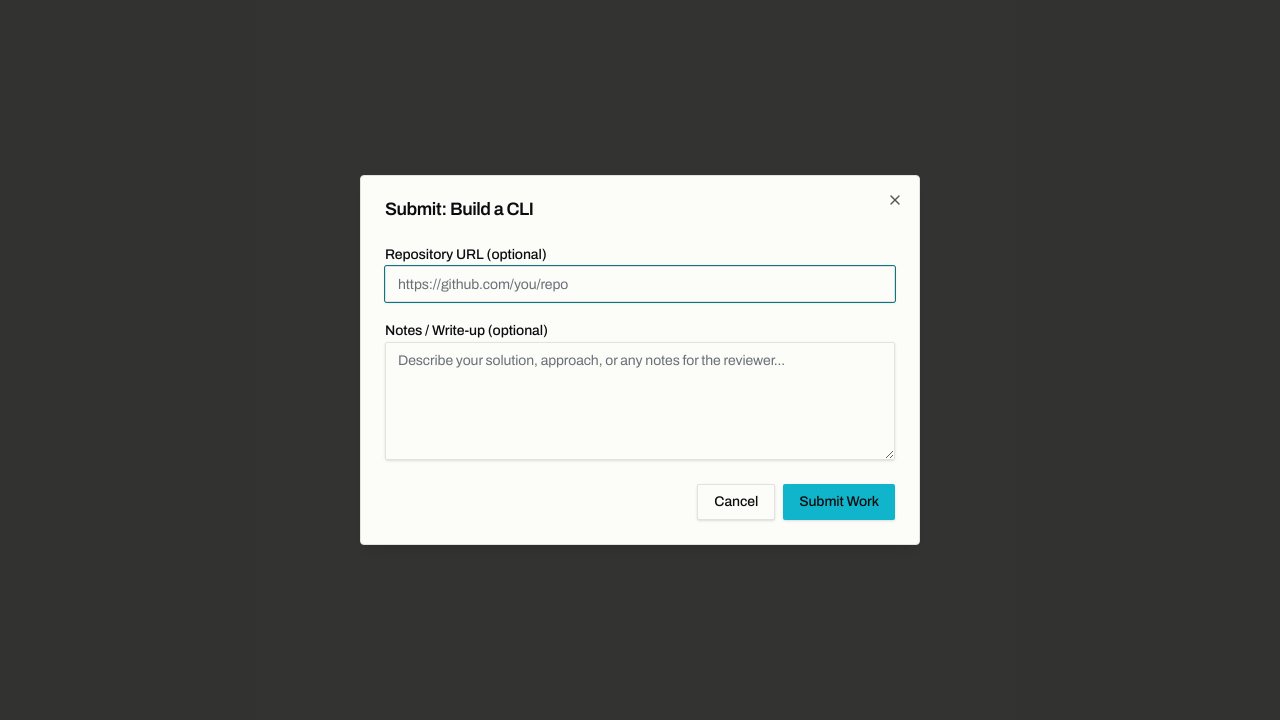
it: TaskSubmitDialog › does not send a link without https://
Type "github.com/x/y" into the field labelled "Repository URL (optional)". click: (640, 284)
box: [385,266,895,302]
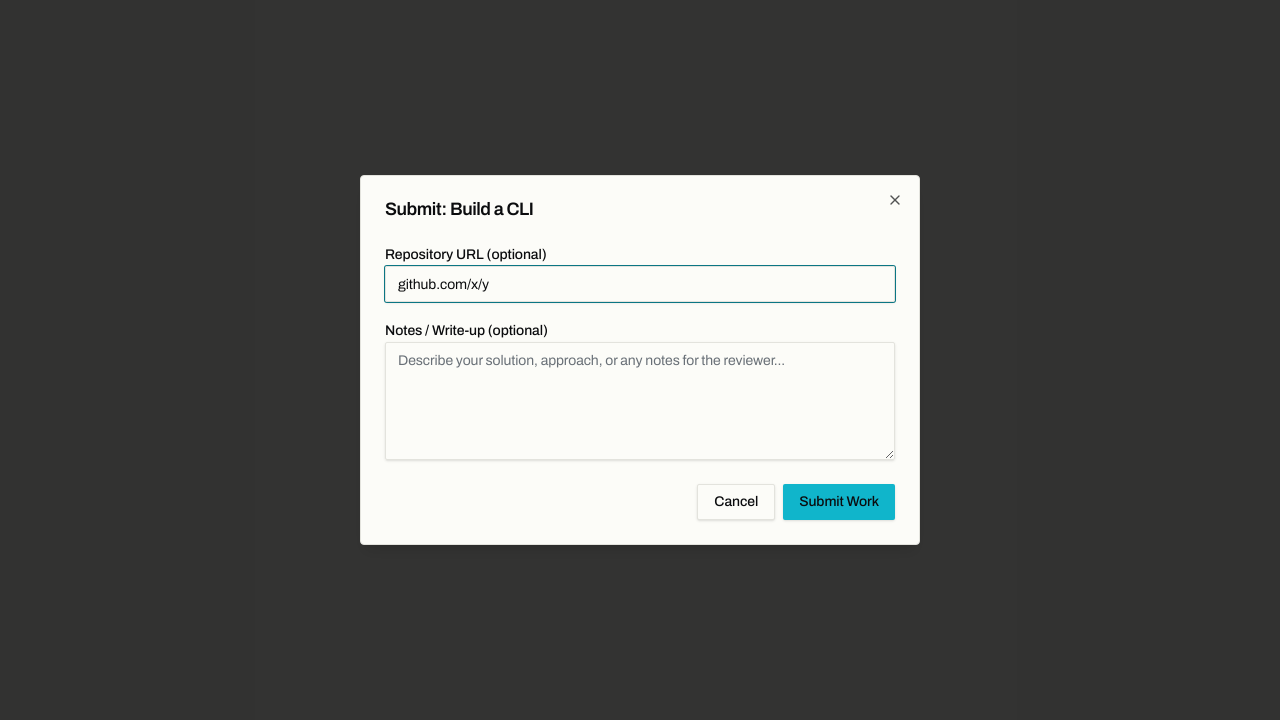
Click the button "Submit Work". click: (839, 502)
box: [783,484,895,520]
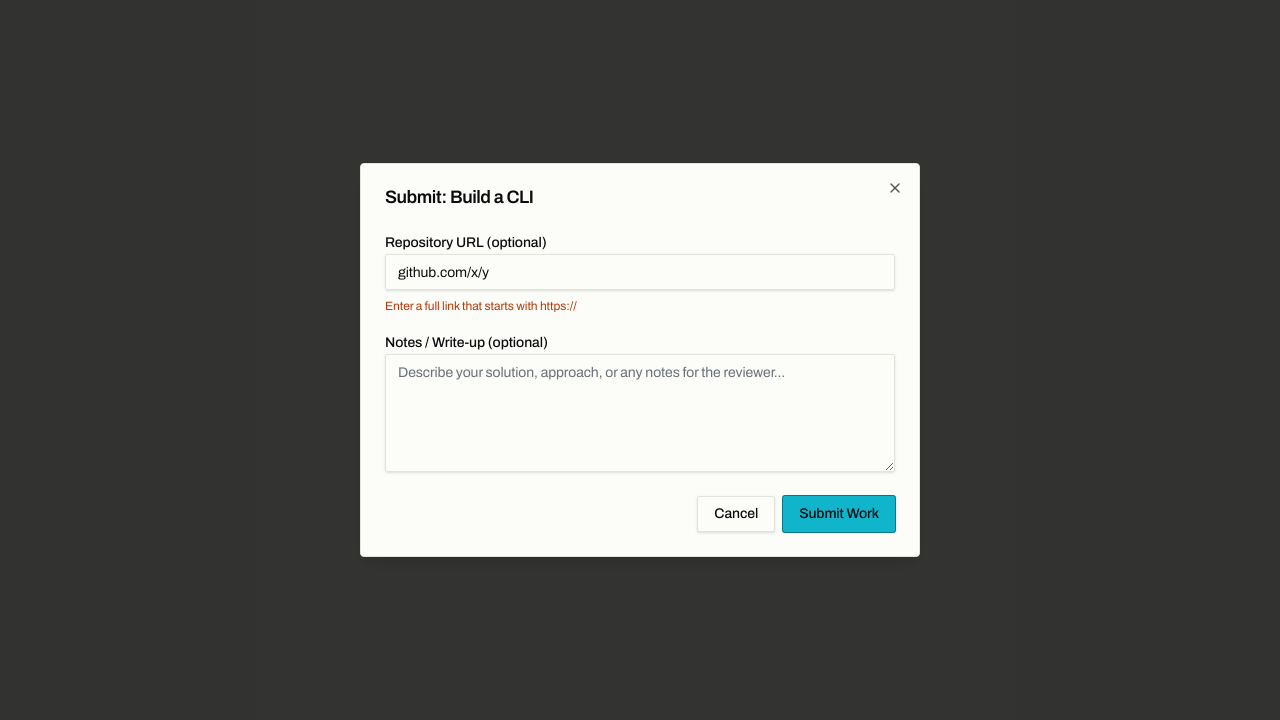
expect the text "Enter a full link that starts with https://" is shown: met, box [385,299,577,313]
